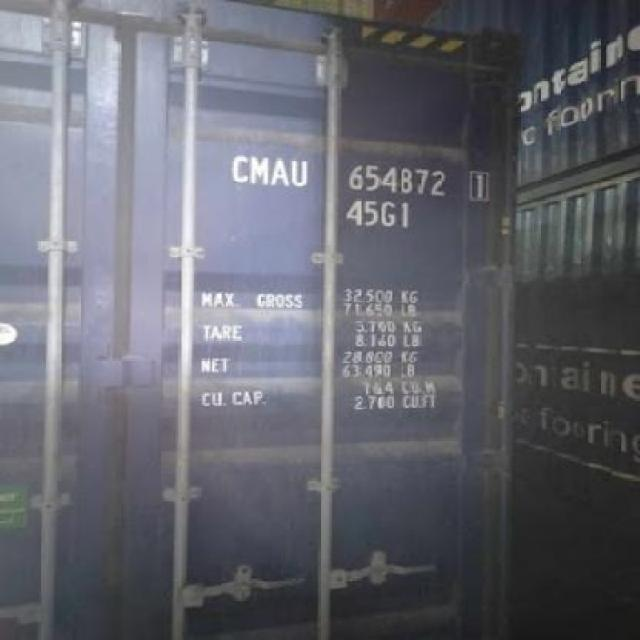ISO: (348, 200, 412, 228)
container_number: (237, 160, 493, 194)
